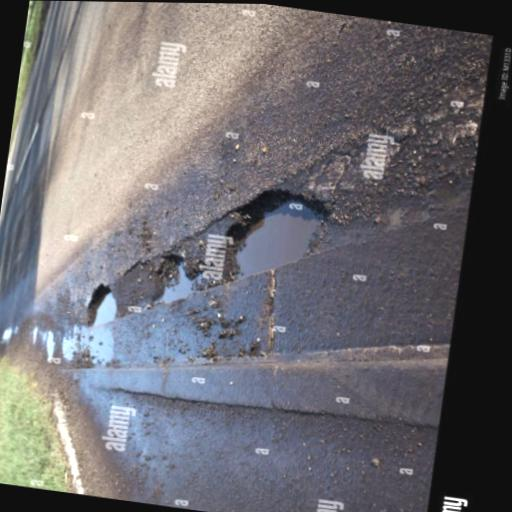pothole: (121, 133, 361, 409), (90, 126, 269, 409), (46, 163, 145, 488)
